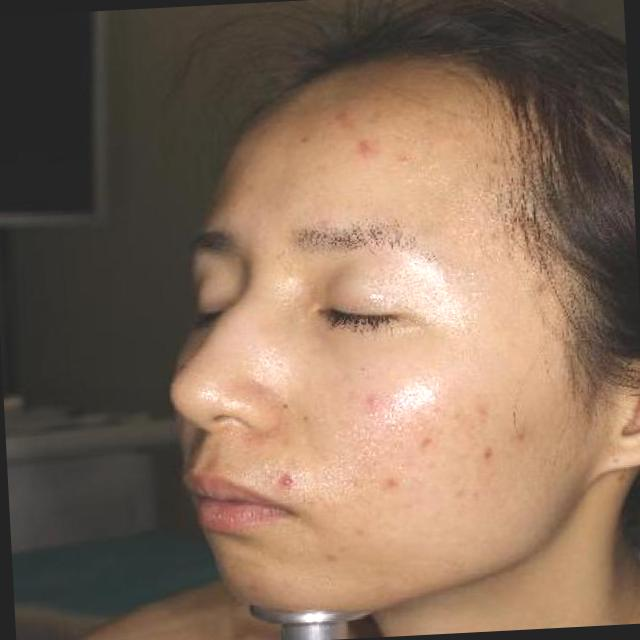blackhead: (271, 398, 296, 418)
darkspot: (349, 132, 384, 166), (378, 472, 408, 496), (362, 386, 384, 418), (415, 430, 442, 454), (476, 442, 499, 467), (511, 425, 534, 449)
nodules: (332, 106, 355, 127), (273, 472, 298, 488)
